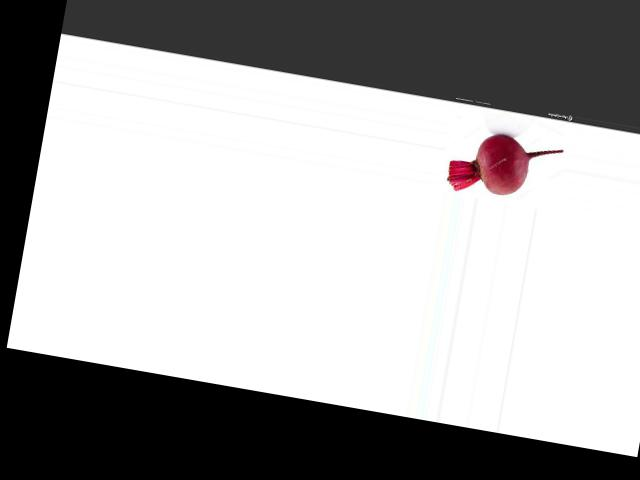beet: (444, 126, 563, 206)
